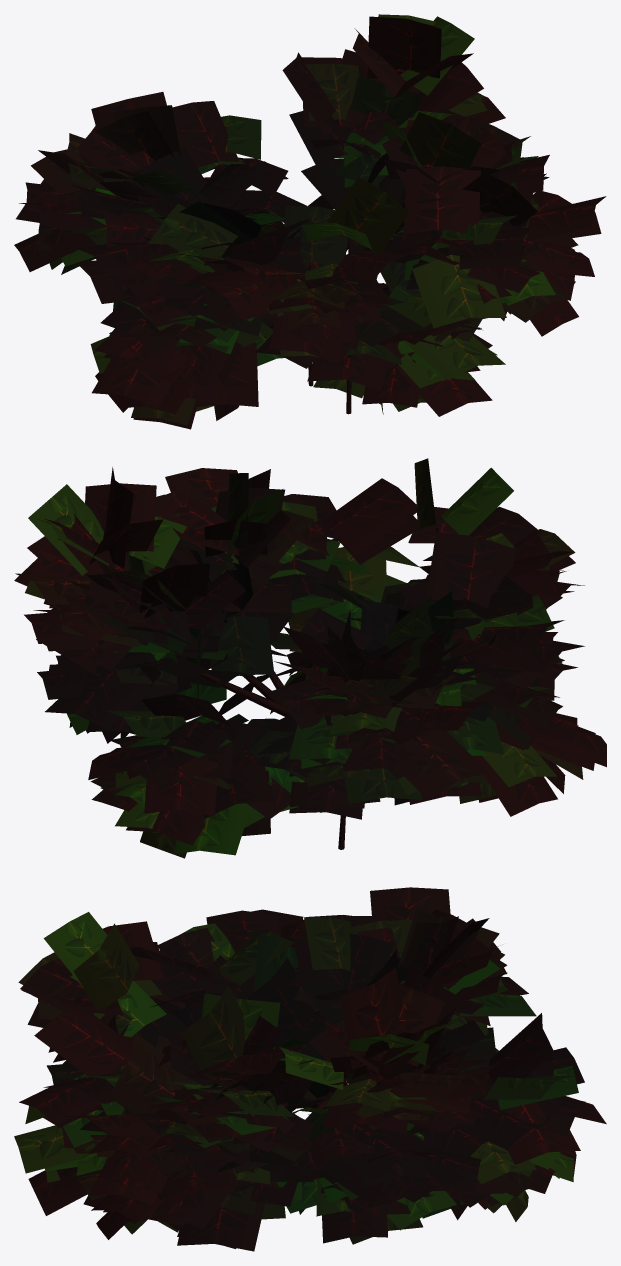
File: veg_banyan1_far.glb
The picture shows the model from 3 angles, top to bottom: view 1: azimuth 30°, elevation 25°; view 2: azimuth 150°, elevation 25°; view 3: azimuth 270°, elevation 25°; orthographic projection. The views are drawn at different scales.
Visible parts, largest first — view 1: banyan_1; view 2: banyan_1; view 3: banyan_1.
Part boxes in pixels (box(x1,y1,x2,y2)): banyan_1: box(14, 14, 606, 429); banyan_1: box(14, 458, 606, 858); banyan_1: box(14, 887, 606, 1251).
Size of the model in its own units: 34.63 by 20.54 by 35.69.
Materials: 2 (2 with a texture image).
